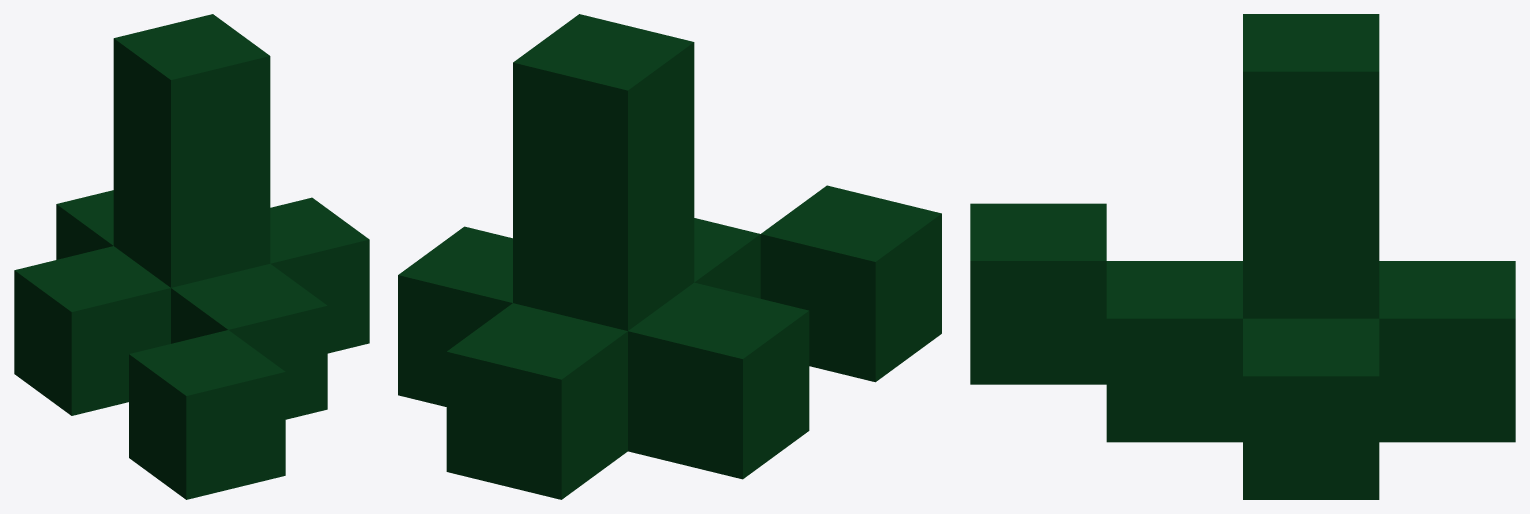
File: GrassPiece12.fbx
3 renders of one model, left to right at view 1: azimuth 30°, elevation 25°; view 2: azimuth 150°, elevation 25°; view 3: azimuth 270°, elevation 25°, orthographic. The views are drawn at different scales.
Visible parts, largest first — view 1: Matrix_Piece1_0_1_Piece1_0_0; view 2: Matrix_Piece1_0_1_Piece1_0_0; view 3: Matrix_Piece1_0_1_Piece1_0_0.
Part boxes in pixels (x1,y1,x2,y2): Matrix_Piece1_0_1_Piece1_0_0: (14,14,369,499); Matrix_Piece1_0_1_Piece1_0_0: (398,14,941,499); Matrix_Piece1_0_1_Piece1_0_0: (970,14,1515,499).
Bounding box in the file's own units: 3 × 3 × 4.
1 material, 1 textured.
